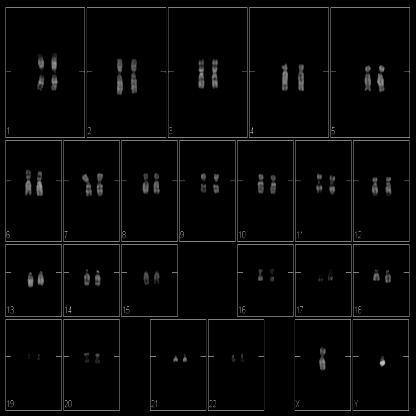1: (48, 46, 61, 100), (34, 47, 48, 97)
10: (267, 170, 281, 202), (256, 169, 266, 200)
11: (327, 166, 342, 202), (312, 167, 327, 200)
12: (384, 170, 398, 203), (368, 171, 382, 202)
13: (24, 264, 35, 298), (36, 264, 46, 298)
14: (93, 262, 106, 292), (80, 262, 92, 290)
15: (140, 262, 152, 292), (152, 260, 162, 292)
16: (266, 262, 278, 290), (256, 261, 266, 289)
17: (312, 263, 326, 289), (326, 262, 336, 290)
18: (368, 262, 384, 288), (385, 262, 396, 289)
19: (24, 347, 35, 367), (35, 347, 45, 367)
2: (128, 53, 142, 104), (113, 53, 127, 101)
20: (93, 347, 105, 370), (80, 346, 92, 368)
21: (167, 346, 181, 372), (182, 346, 194, 372)
22: (239, 345, 251, 371), (228, 346, 238, 369)
3: (208, 54, 223, 96), (194, 53, 207, 95)
4: (276, 54, 292, 100), (295, 55, 308, 102)
5: (374, 62, 388, 99), (361, 61, 374, 98)
6: (21, 165, 34, 200), (34, 166, 46, 202)
7: (94, 168, 108, 204), (80, 169, 94, 203)
8: (150, 166, 164, 203), (140, 166, 150, 202)
9: (210, 164, 224, 204), (196, 164, 209, 202)
X: (315, 338, 331, 376)
Y: (374, 348, 392, 375)
